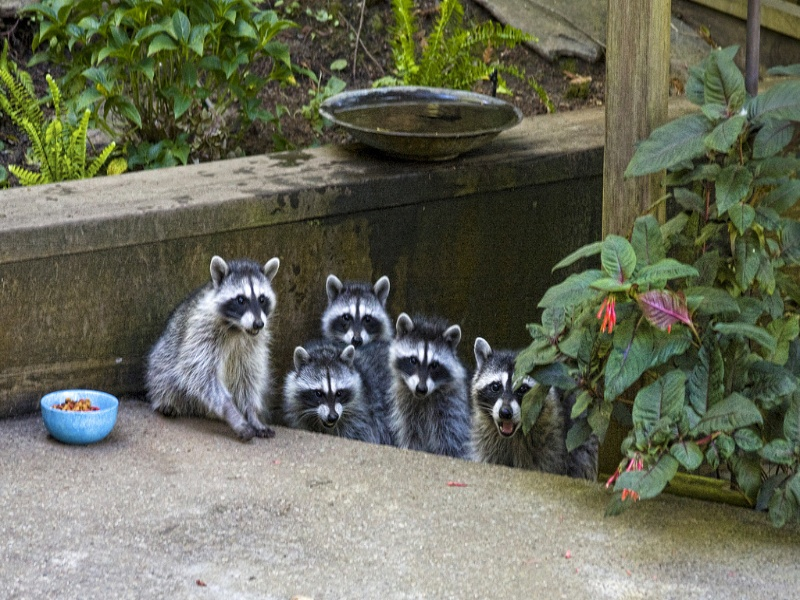raccoon: (145, 250, 280, 436), (472, 333, 574, 470), (323, 274, 408, 437), (387, 311, 476, 454), (284, 342, 384, 439)
